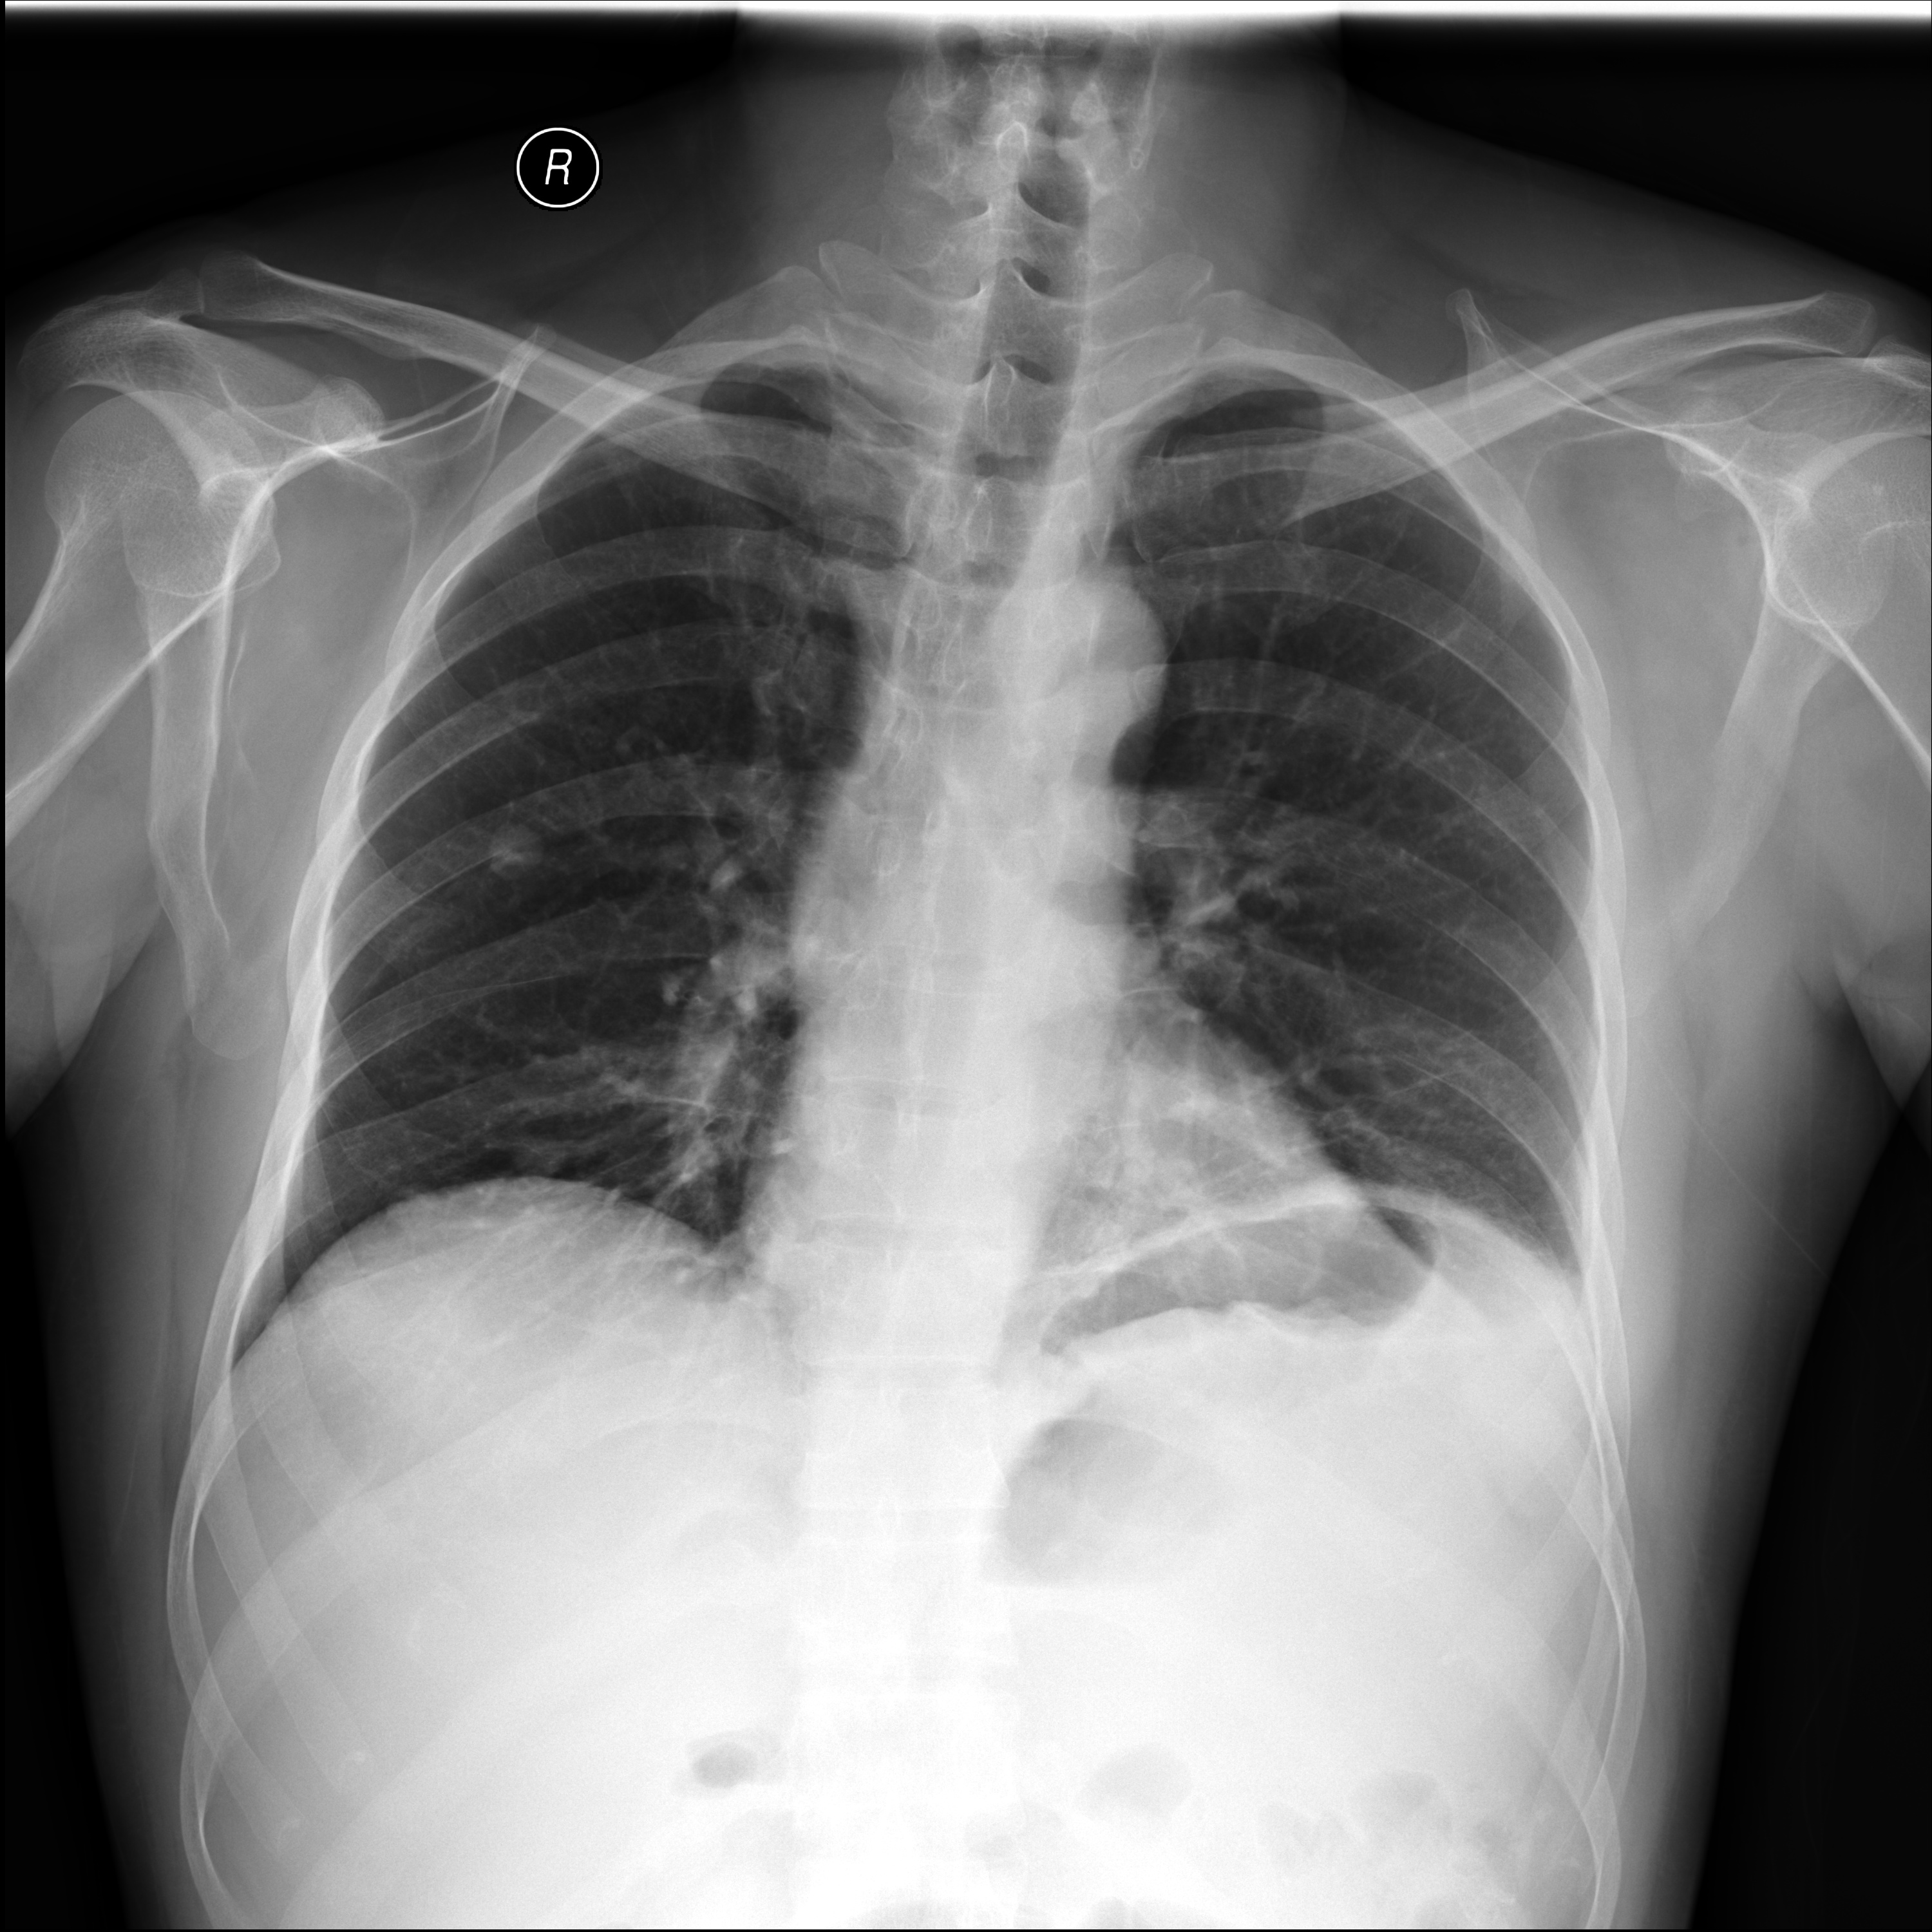nodule: (490, 1118, 626, 1230), (465, 791, 568, 922)
